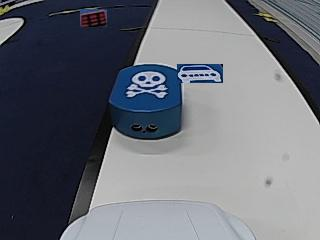danger: (126, 71, 165, 98)
